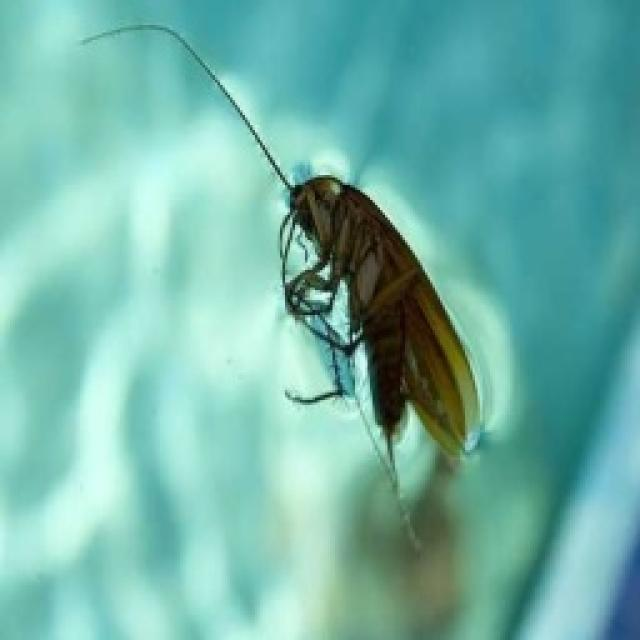cockroach: (230, 107, 487, 465)
